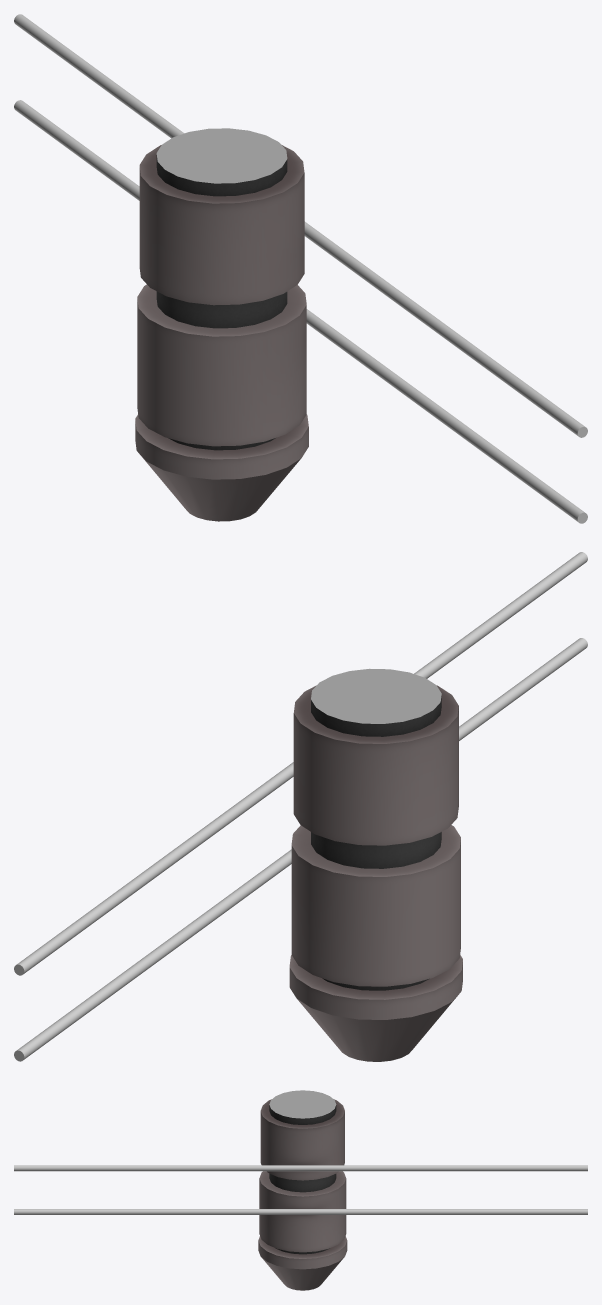
Rendered from SatelliteBodyBars.fbx.
The picture shows the model from 3 angles, top to bottom: view 1: azimuth 30°, elevation 25°; view 2: azimuth 150°, elevation 25°; view 3: azimuth 270°, elevation 25°; orthographic projection. The views are drawn at different scales.
Visible parts, largest first — view 1: polySurface6; view 2: polySurface6; view 3: polySurface6.
Part boxes in pixels (left/top/right/bottom): polySurface6: left=14, top=14, right=587, bottom=523; polySurface6: left=14, top=552, right=587, bottom=1061; polySurface6: left=14, top=1090, right=587, bottom=1290.
Size of the model in its own units: 1.77 by 3.74 by 10.92.
